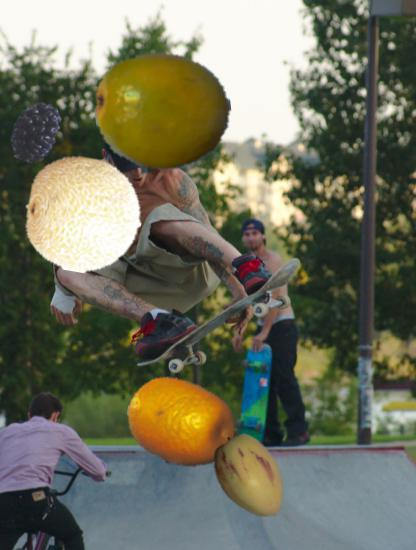Cantaloupe: (25, 155, 143, 273)
Kumquats: (126, 367, 237, 478)
Maracuja: (95, 44, 231, 180)
Mulberry: (4, 100, 67, 163)
Pepino: (205, 432, 297, 524)
